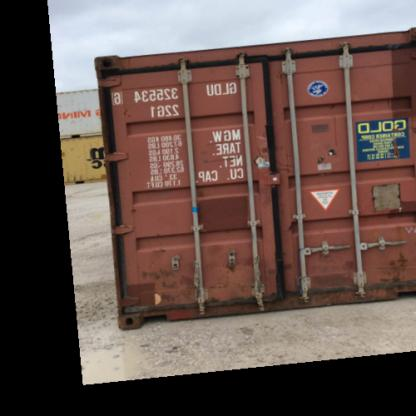Damage: (128, 246, 272, 304), (303, 245, 360, 296), (248, 118, 286, 177), (374, 245, 412, 291), (310, 142, 338, 163)
